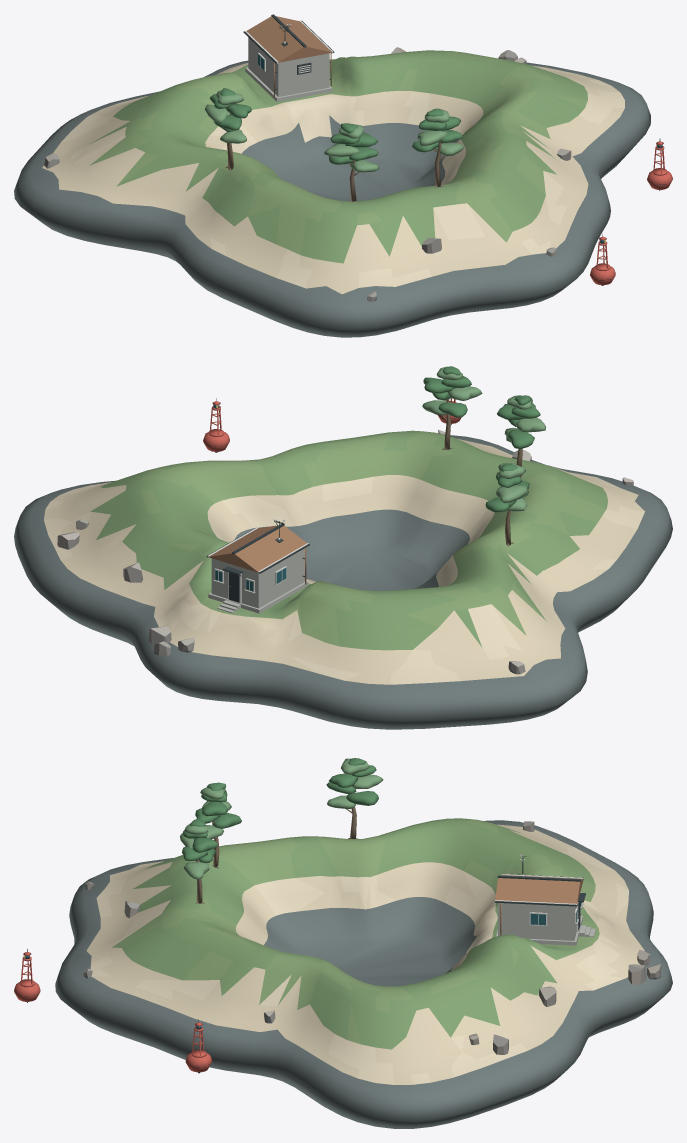
Rendered from ENV_Atoll_LOD1.fbx.
3 renders of one model, top to bottom at view 1: azimuth 30°, elevation 25°; view 2: azimuth 150°, elevation 25°; view 3: azimuth 270°, elevation 25°, orthographic. The views are drawn at different scales.
Visible parts, largest first — view 1: TerrainShell, ENV_CoastShed_0_Visual, ENV_CoastalPine_2_Visual.001, ENV_CoastalPine_1_Visual, ENV_CoastalPine_3_Visual.001, Decor_Visual.001, ENV_NavigationBuoy_5_Visual.001, ENV_NavigationBuoy_4_Visual; view 2: TerrainShell, ENV_CoastShed_0_Visual, ENV_CoastalPine_1_Visual, Decor_Visual.001, ENV_CoastalPine_2_Visual.001, ENV_CoastalPine_3_Visual.001, ENV_NavigationBuoy_4_Visual; view 3: TerrainShell, ENV_CoastShed_0_Visual, ENV_CoastalPine_3_Visual.001, Decor_Visual.001, ENV_CoastalPine_1_Visual, ENV_CoastalPine_2_Visual.001, ENV_NavigationBuoy_4_Visual, ENV_NavigationBuoy_5_Visual.001.
Part boxes in pixels (x1=…): TerrainShell: x1=14, y1=50, x2=650, y2=337; ENV_CoastShed_0_Visual: x1=243, y1=14, x2=334, y2=101; ENV_CoastalPine_2_Visual.001: x1=324, y1=123, x2=379, y2=201; ENV_CoastalPine_1_Visual: x1=412, y1=108, x2=463, y2=187; ENV_CoastalPine_3_Visual.001: x1=204, y1=88, x2=251, y2=171; Decor_Visual.001: x1=44, y1=47, x2=571, y2=301; ENV_NavigationBuoy_5_Visual.001: x1=590, y1=234, x2=615, y2=285; ENV_NavigationBuoy_4_Visual: x1=647, y1=138, x2=672, y2=190; TerrainShell: x1=14, y1=430, x2=672, y2=729; ENV_CoastShed_0_Visual: x1=206, y1=520, x2=309, y2=613; ENV_CoastalPine_1_Visual: x1=422, y1=366, x2=482, y2=449; Decor_Visual.001: x1=57, y1=429, x2=633, y2=674; ENV_CoastalPine_2_Visual.001: x1=497, y1=395, x2=545, y2=477; ENV_CoastalPine_3_Visual.001: x1=485, y1=463, x2=529, y2=546; ENV_NavigationBuoy_4_Visual: x1=203, y1=398, x2=229, y2=452; TerrainShell: x1=55, y1=818, x2=672, y2=1128; ENV_CoastShed_0_Visual: x1=494, y1=857, x2=595, y2=945; ENV_CoastalPine_3_Visual.001: x1=326, y1=758, x2=383, y2=838; Decor_Visual.001: x1=83, y1=821, x2=661, y2=1054; ENV_CoastalPine_1_Visual: x1=180, y1=818, x2=218, y2=903; ENV_CoastalPine_2_Visual.001: x1=195, y1=782, x2=241, y2=868; ENV_NavigationBuoy_4_Visual: x1=185, y1=1019, x2=212, y2=1073; ENV_NavigationBuoy_5_Visual.001: x1=14, y1=949, x2=40, y2=1002.
Bounding box in the file's own units: 3534 × 944 × 3433.
